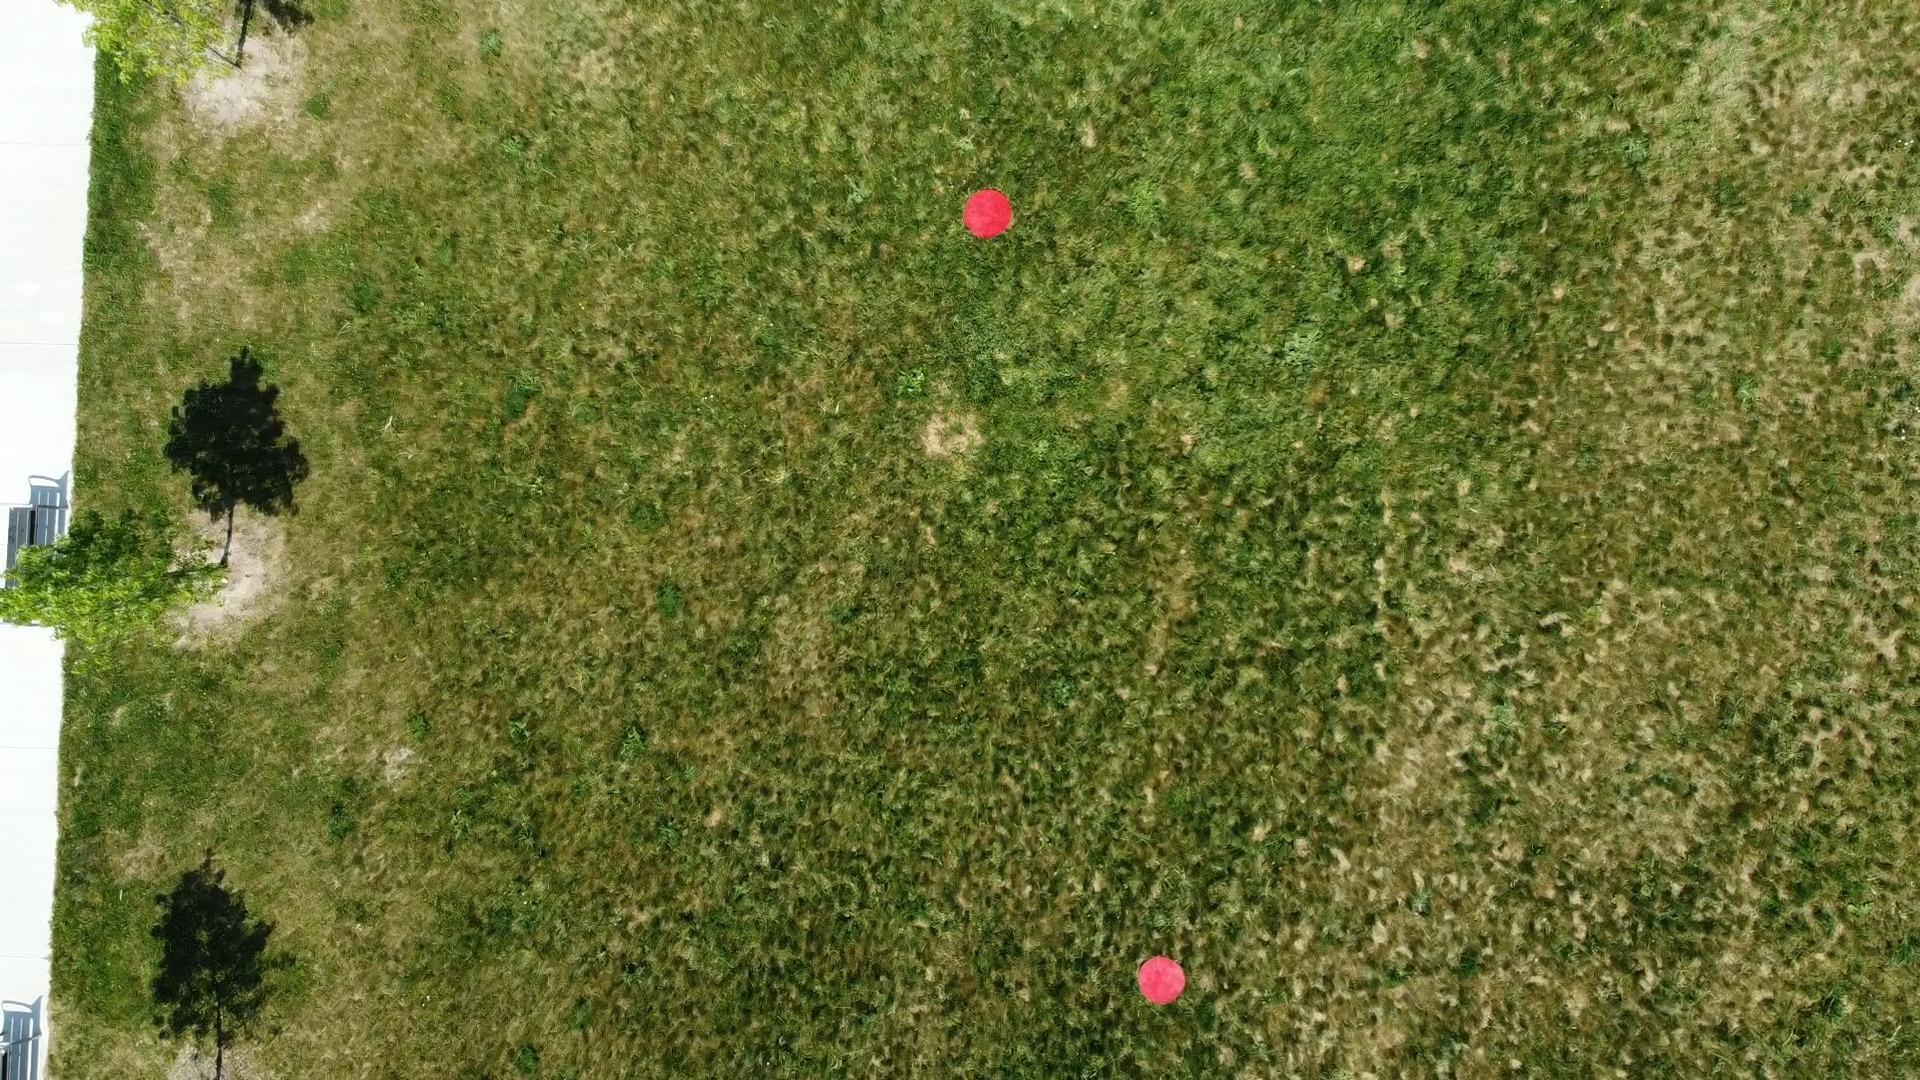Red: (1133, 953, 1191, 1007), (961, 187, 1015, 241)
